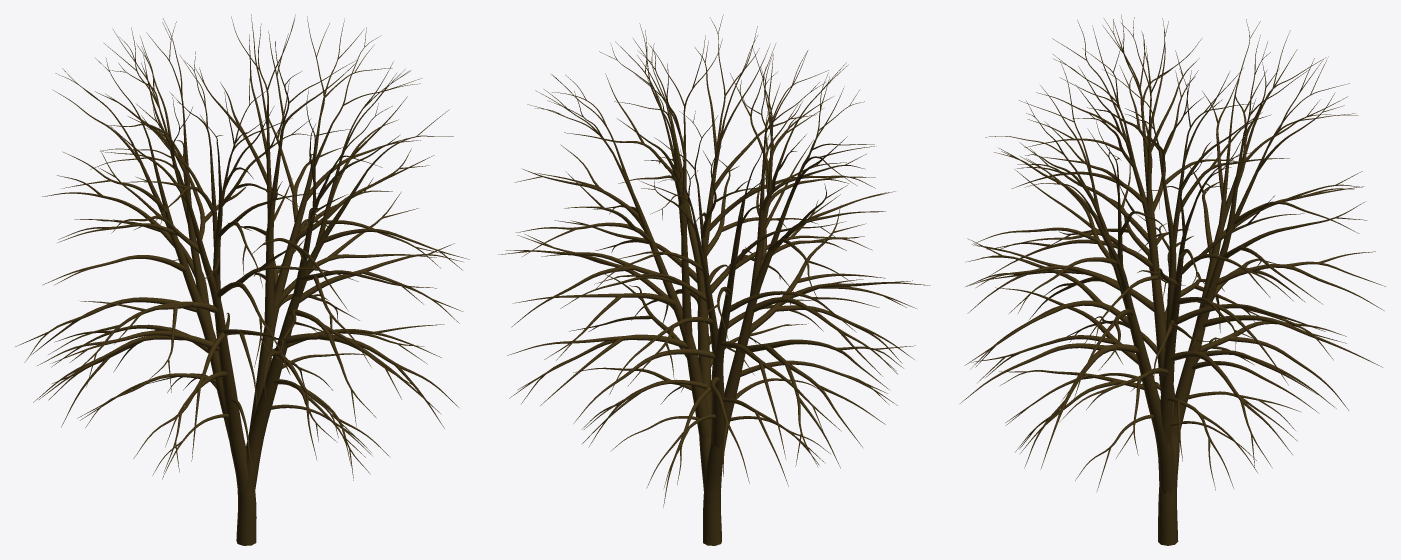
Rendered from Tree.fbx.
3 views of the same model, side by side, from view 1: azimuth 30°, elevation 25°; view 2: azimuth 150°, elevation 25°; view 3: azimuth 270°, elevation 25° (orthographic). The views are drawn at different scales.
Visible parts, largest first — view 1: tree.004; view 2: tree.004; view 3: tree.004.
Part boxes in pixels (bbox=[...]): tree.004: bbox=[15, 14, 469, 545]; tree.004: bbox=[498, 14, 930, 545]; tree.004: bbox=[960, 14, 1385, 545].
Size of the model in its own units: 279 by 355 by 273.
